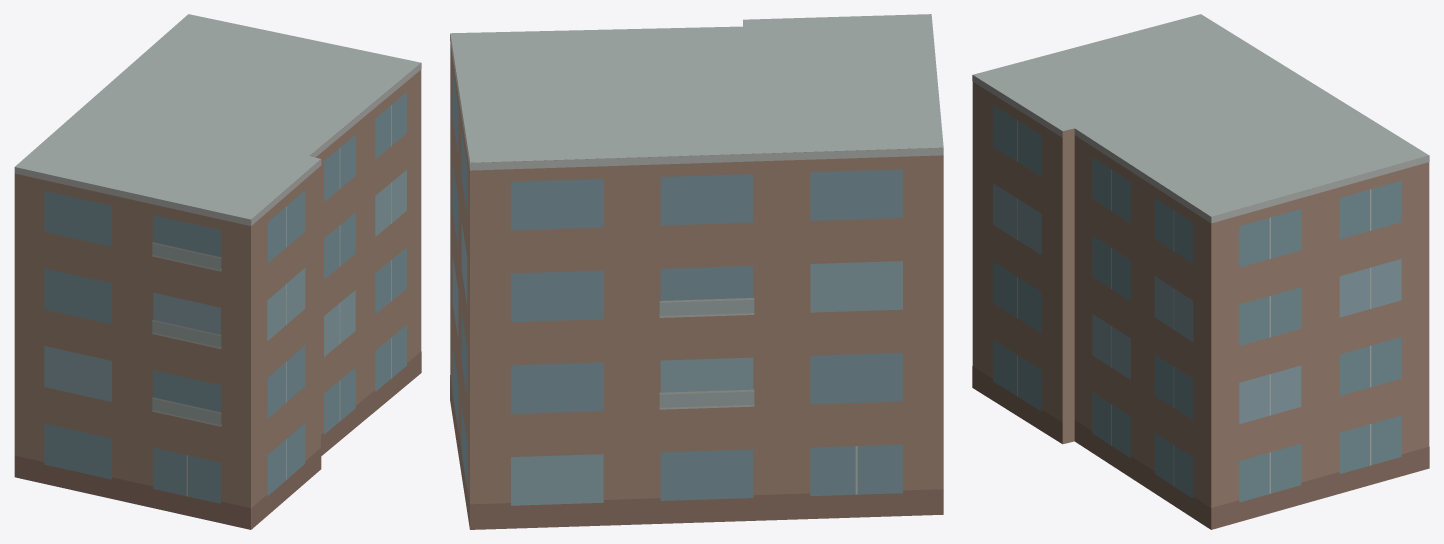
File: survey-upis-32724187.glb
3 views of the same model, side by side, from view 1: azimuth 30°, elevation 25°; view 2: azimuth 150°, elevation 25°; view 3: azimuth 270°, elevation 25° (orthographic). The views are drawn at different scales.
Visible parts, largest first — view 1: survey-upis-32724187.tmp; view 2: survey-upis-32724187.tmp; view 3: survey-upis-32724187.tmp.
Part boxes in pixels (left/top/right/bottom): survey-upis-32724187.tmp: left=14, top=14, right=421, bottom=529; survey-upis-32724187.tmp: left=450, top=14, right=943, bottom=529; survey-upis-32724187.tmp: left=972, top=14, right=1429, bottom=529.
Bounding box in the file's own units: 16.06 × 11.55 × 15.29.
